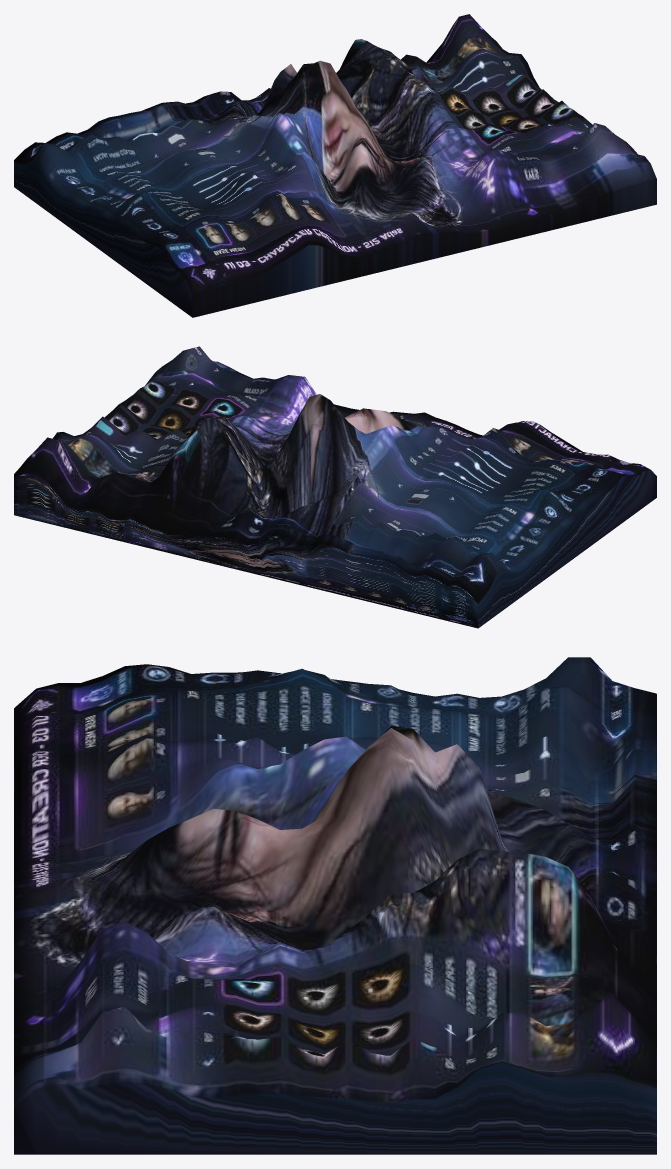
The model's file is UI_03_Character_Creation.glb.
The picture shows the model from 3 angles, top to bottom: view 1: azimuth 30°, elevation 25°; view 2: azimuth 150°, elevation 25°; view 3: azimuth 270°, elevation 25°; orthographic projection. The views are drawn at different scales.
Parts seen in each view (by area): view 1: UI_03_Character_Creation; view 2: UI_03_Character_Creation; view 3: UI_03_Character_Creation.
Boxes of the visible parts, x1,y1,x2,y2 form: UI_03_Character_Creation: (14,14,656,317); UI_03_Character_Creation: (14,346,656,628); UI_03_Character_Creation: (14,657,656,1154).
Bounding box in the file's own units: 2 × 0.51 × 1.33.
Materials: 1 (1 with a texture image).
